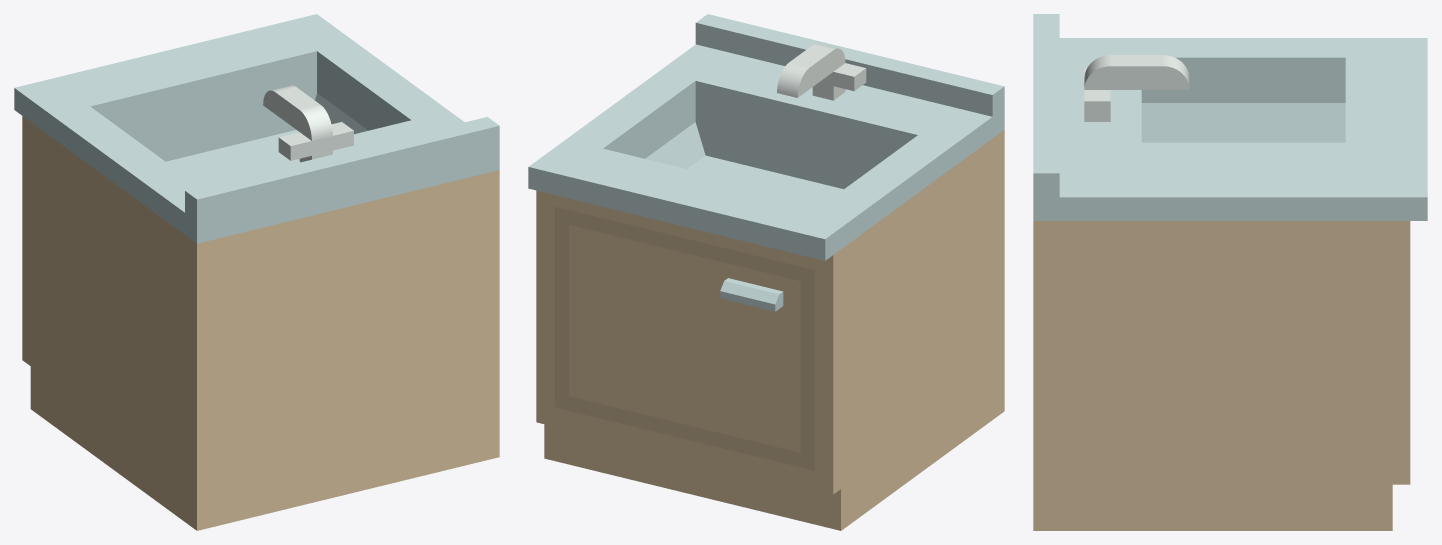
File: kitchenSink.glb
3 views of the same model, side by side, from view 1: azimuth 30°, elevation 25°; view 2: azimuth 150°, elevation 25°; view 3: azimuth 270°, elevation 25° (orthographic). The views are drawn at different scales.
Visible parts, largest first — view 1: kitchenSink; view 2: kitchenSink, door 9; view 3: kitchenSink.
Boxes of the visible parts, x1,y1,x2,y2 form: kitchenSink: (14,14,499,530); kitchenSink: (528,14,1004,530); door 9: (555,206,814,470); kitchenSink: (1033,14,1427,530).
Bounding box in the file's own units: 4.3 × 4.9 × 4.5.
